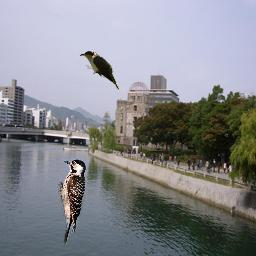Cuckoo: (79, 51, 119, 90)
Woodpecker: (58, 157, 87, 247)
